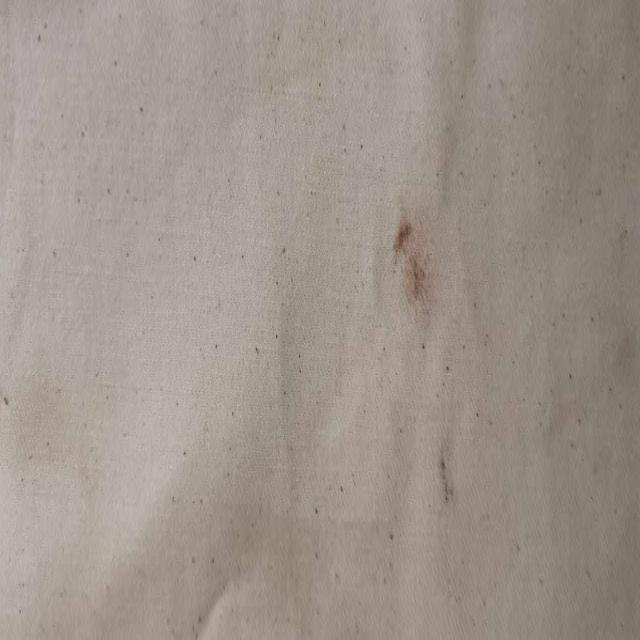taaaches: (388, 201, 442, 326), (432, 434, 468, 522)
